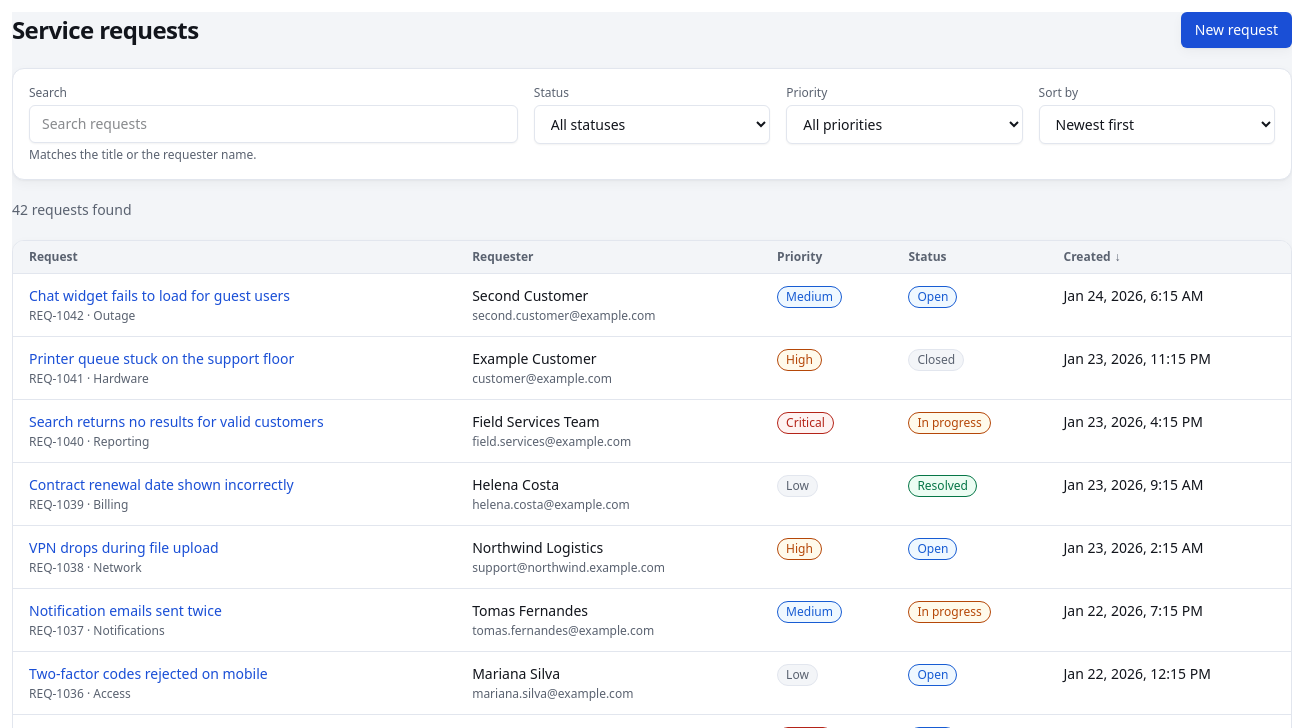
Test: RequestsListPage › filters by status and writes the choice to the URL
Select "Closed" in the dropdown labelled "Status": (652, 124) [534, 105, 770, 144]
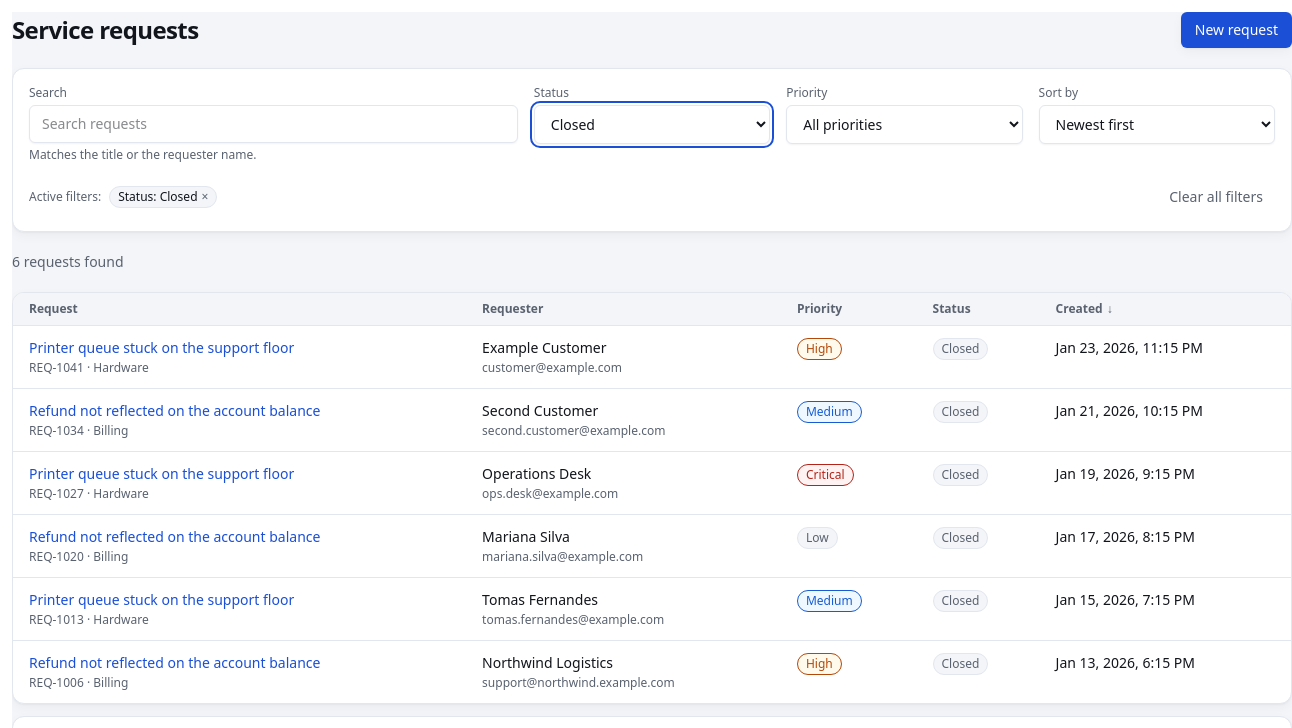
Check: the message reads "6 requests found", box [12, 252, 124, 271]
Check: the text "Closed" is shown 6 times, box [932, 338, 988, 360]; [932, 401, 988, 423]; [932, 464, 988, 486]; [932, 527, 988, 549]; [932, 590, 988, 612]; [932, 653, 988, 675]
